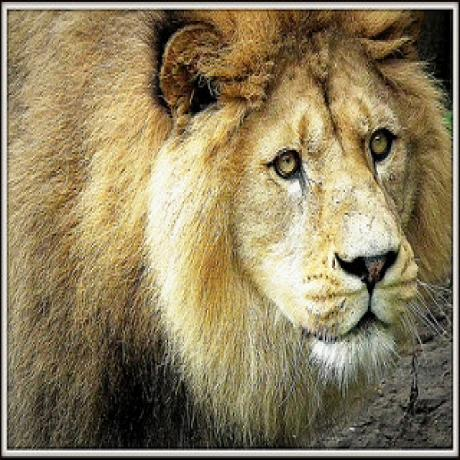Lion: (7, 7, 452, 448)
